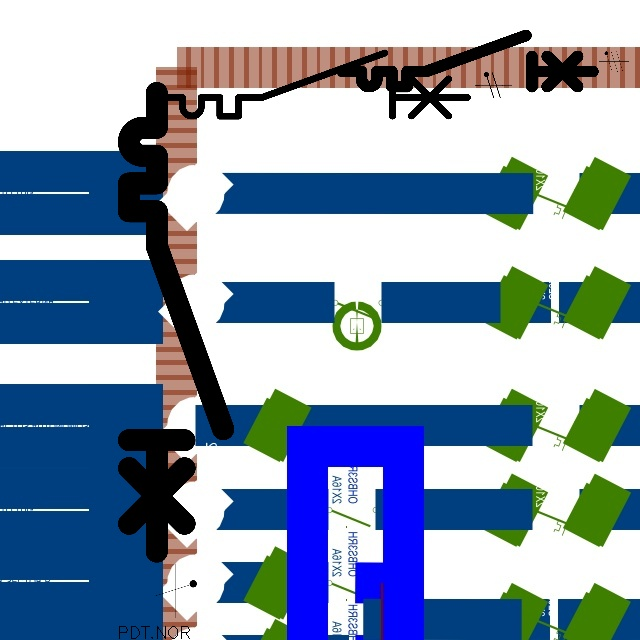interruptor_termomagnetico: (117, 81, 235, 563), (151, 45, 475, 124), (336, 29, 599, 93)
